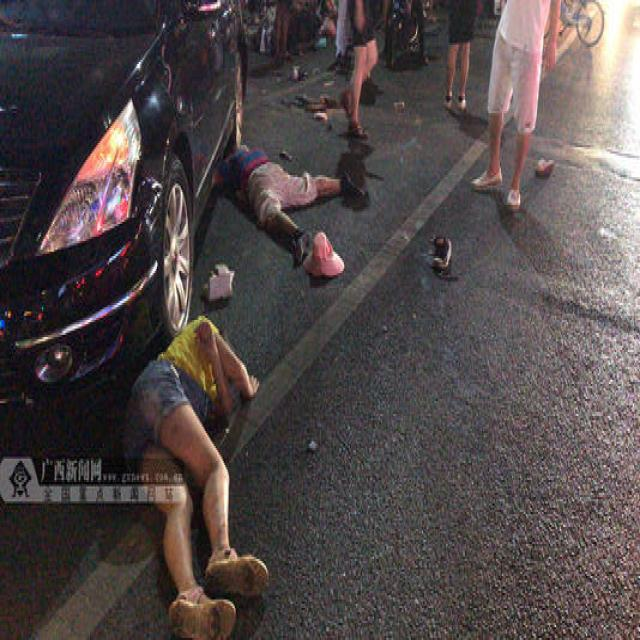fall: (134, 296, 272, 621), (223, 126, 339, 252)
